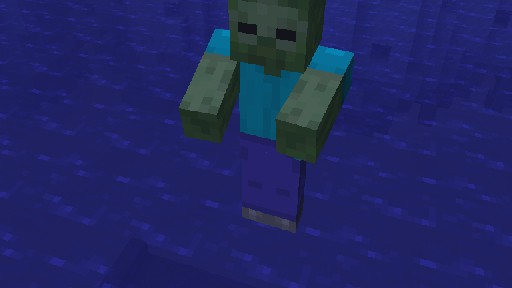zombie: (177, 0, 354, 232)
